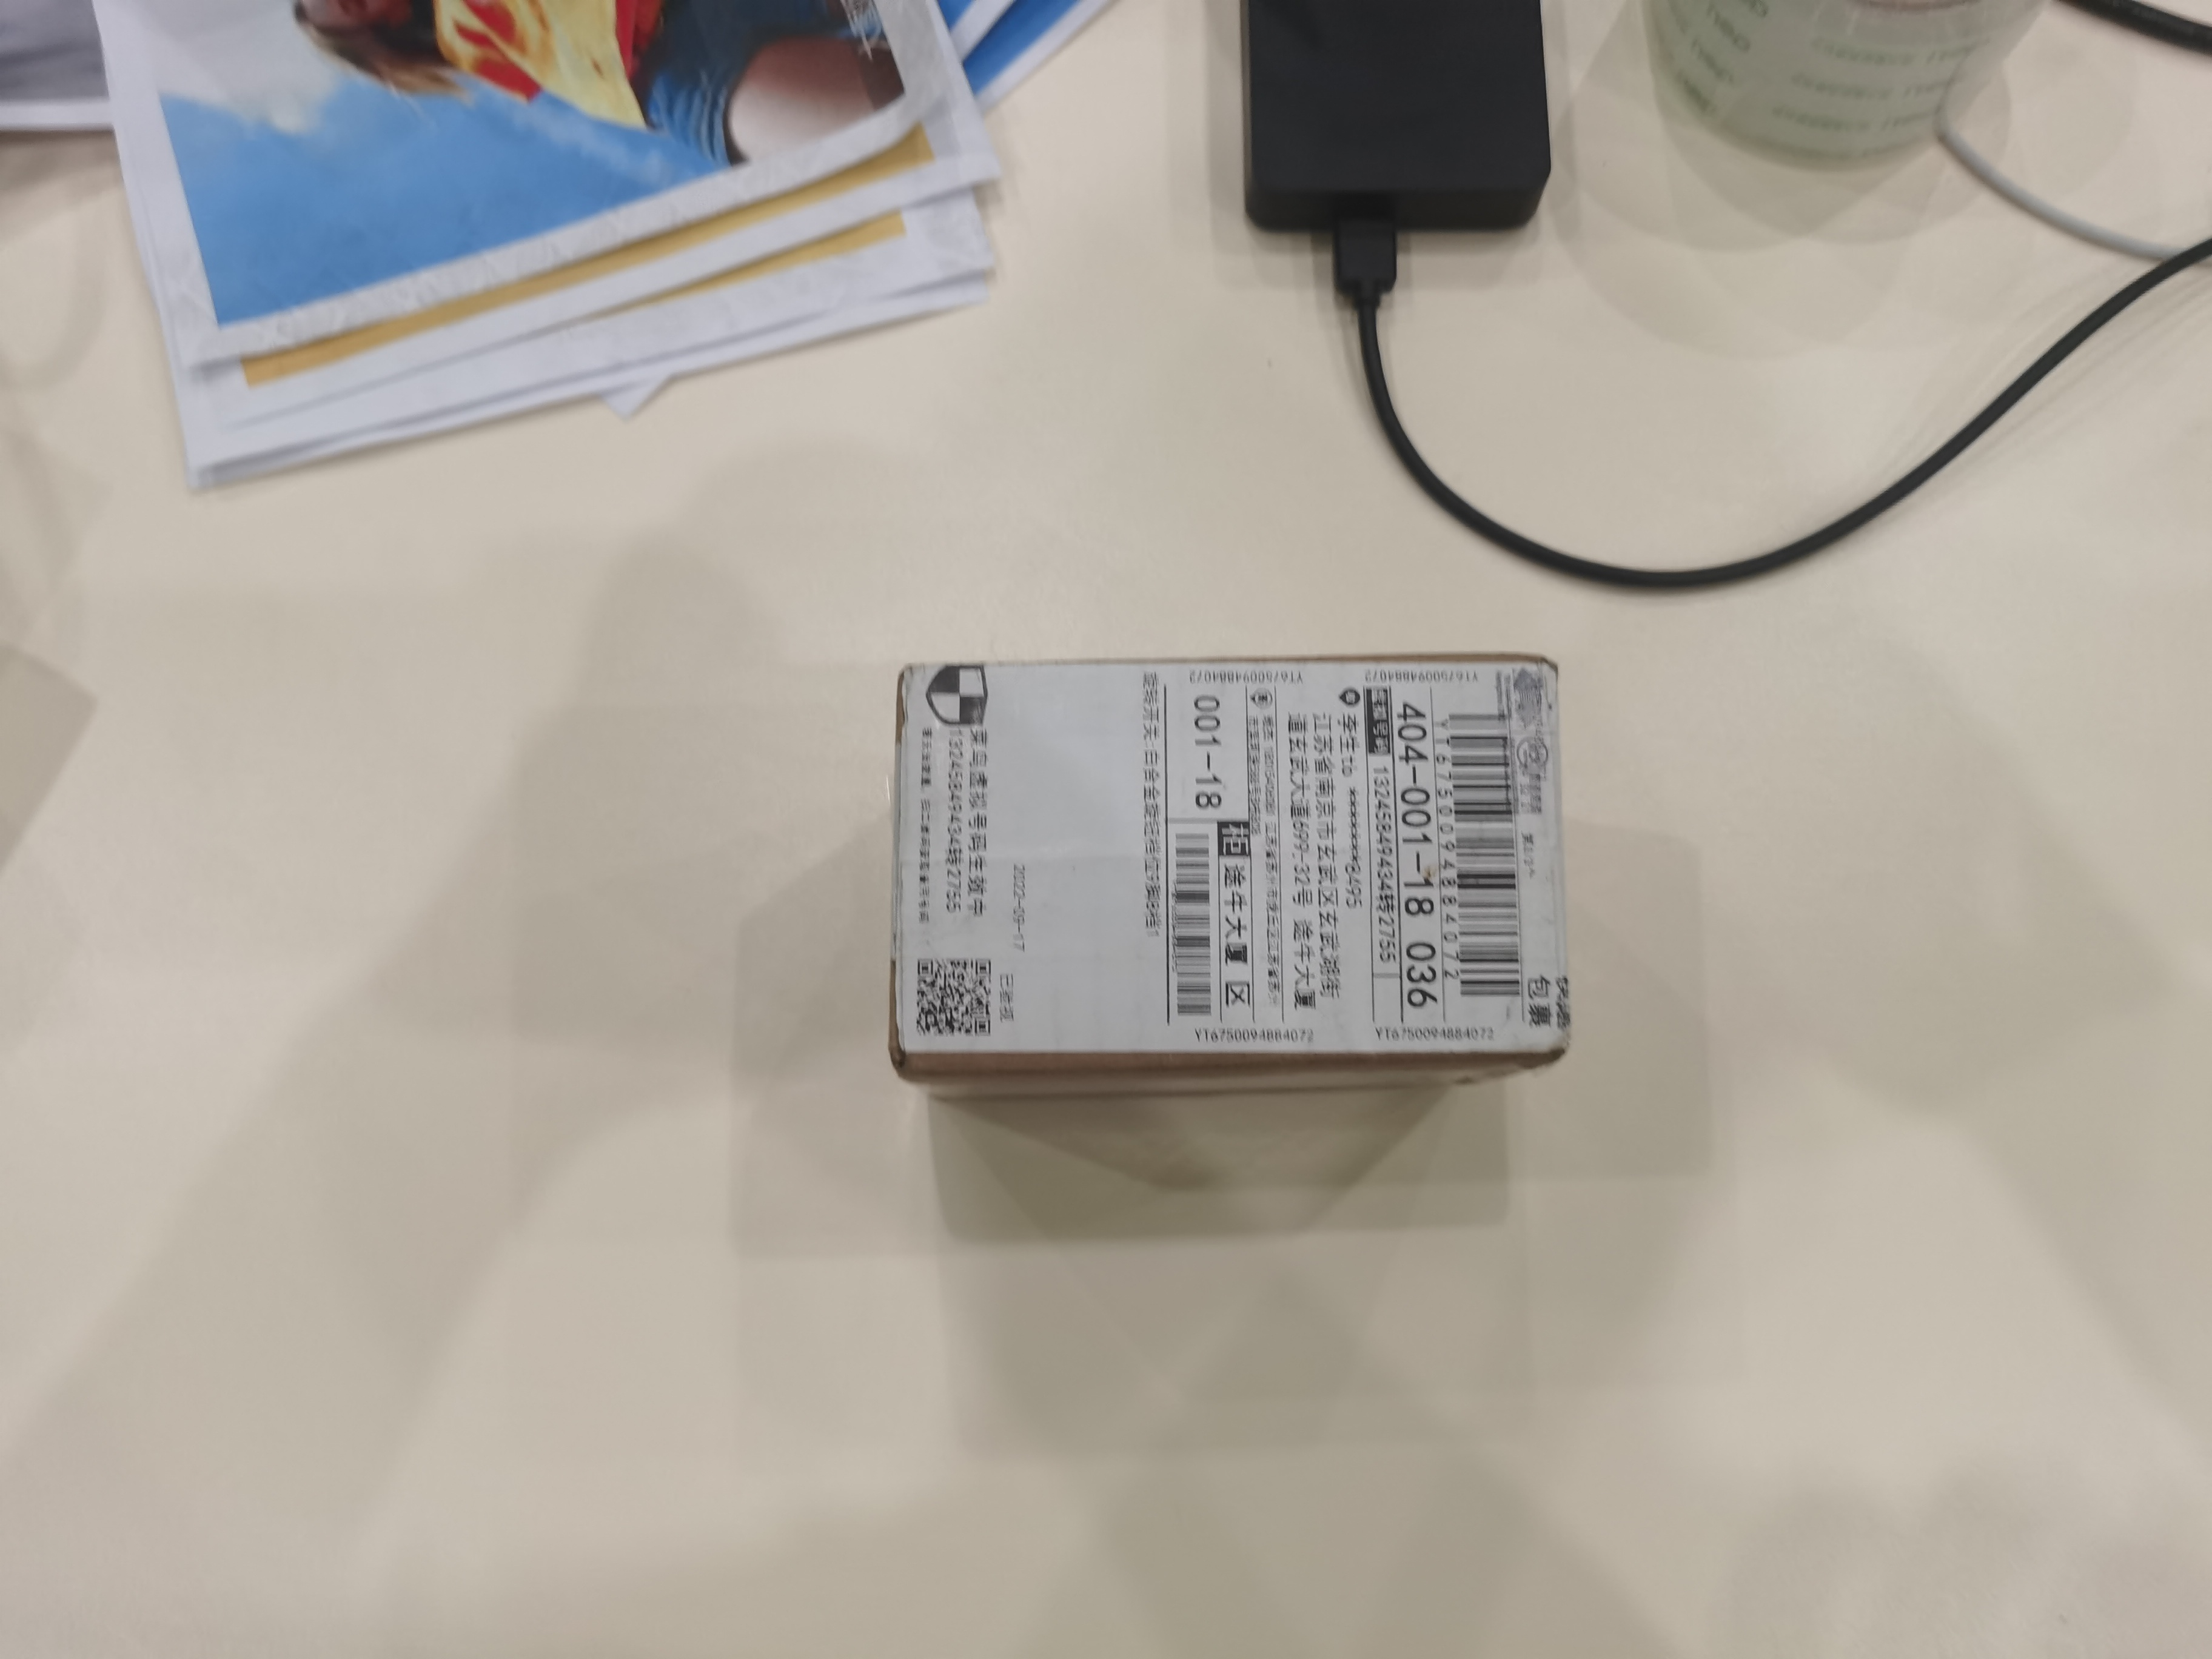box: (819, 605, 1688, 1138)
